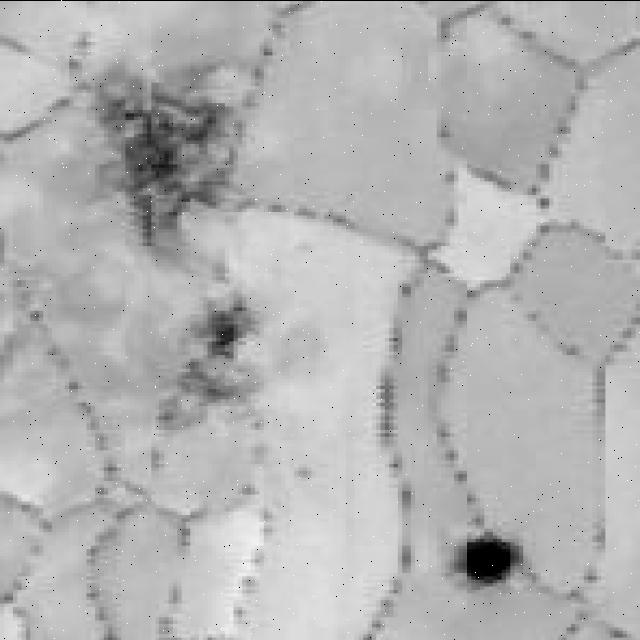good_void: (90, 74, 251, 240), (192, 296, 263, 362), (453, 531, 528, 588), (181, 355, 241, 403), (154, 392, 210, 438)
